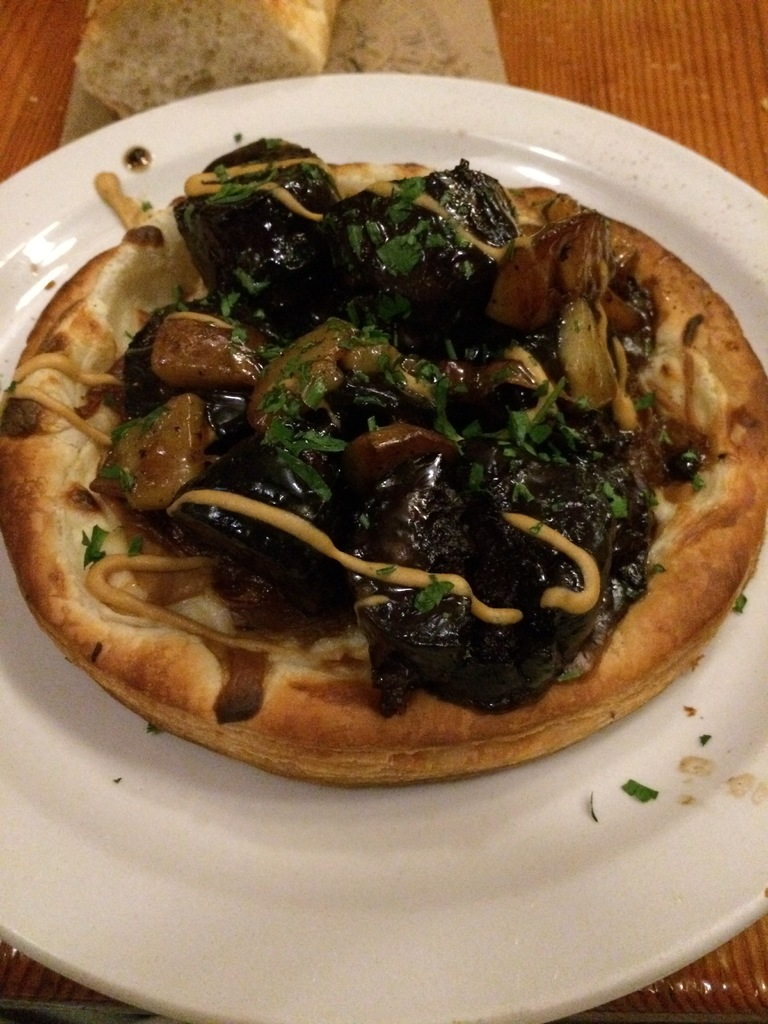Pizza: (0, 131, 763, 785), (0, 140, 767, 779)
